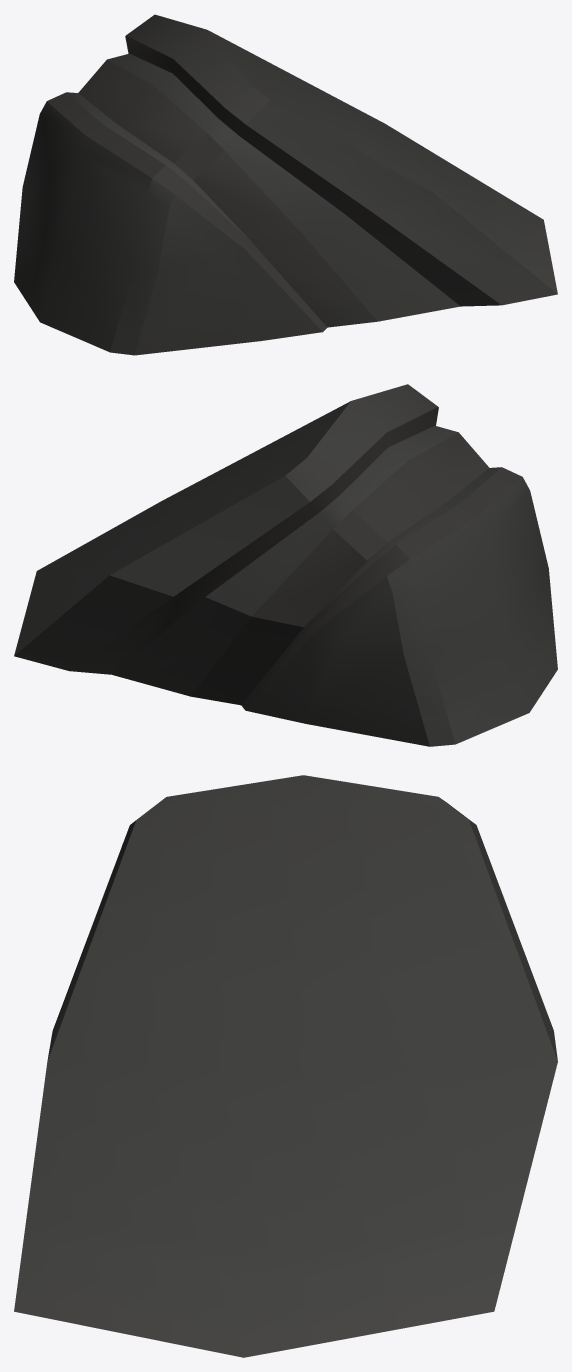
The model's file is MixedBag4.fbx.
3 renders of one model, top to bottom at view 1: azimuth 30°, elevation 25°; view 2: azimuth 150°, elevation 25°; view 3: azimuth 270°, elevation 25°, orthographic. The views are drawn at different scales.
Parts seen in each view (by area): view 1: MixedBag4_LOD0; view 2: MixedBag4_LOD0; view 3: MixedBag4_LOD0.
Boxes of the visible parts, left/top/right/bottom form: MixedBag4_LOD0: left=14, top=14, right=557, bottom=355; MixedBag4_LOD0: left=14, top=384, right=557, bottom=746; MixedBag4_LOD0: left=14, top=775, right=557, bottom=1357.
Size of what is drawn, in the model's own units: 2.77 by 1.38 by 1.88.
